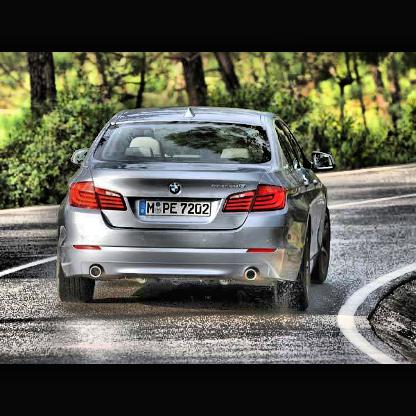BMW ActiveHybrid 5 Sedan 2012: (56, 106, 340, 316)
